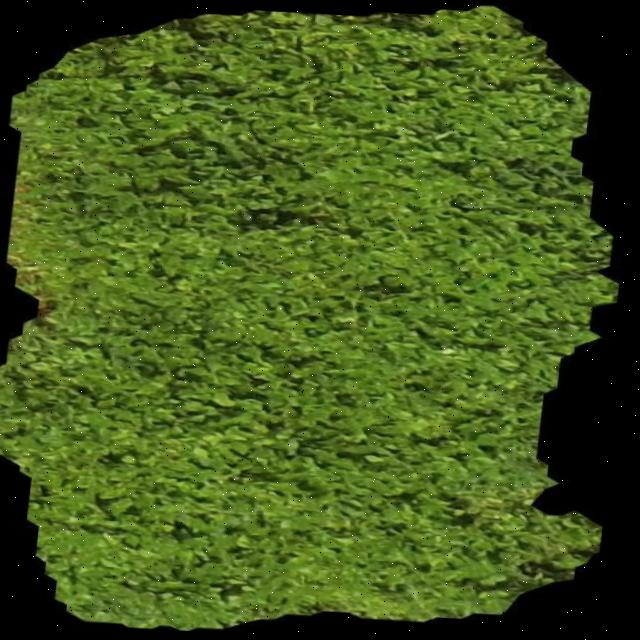Bean: (0, 6, 620, 631)
